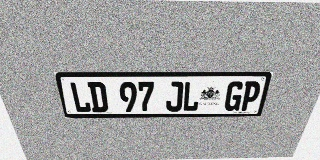7: (137, 82, 154, 112)
9: (119, 82, 138, 112)
D: (87, 82, 109, 112)
G: (223, 81, 245, 111)
J: (166, 82, 184, 112)
L: (69, 82, 92, 112), (182, 81, 201, 111)
P: (239, 81, 262, 111)
